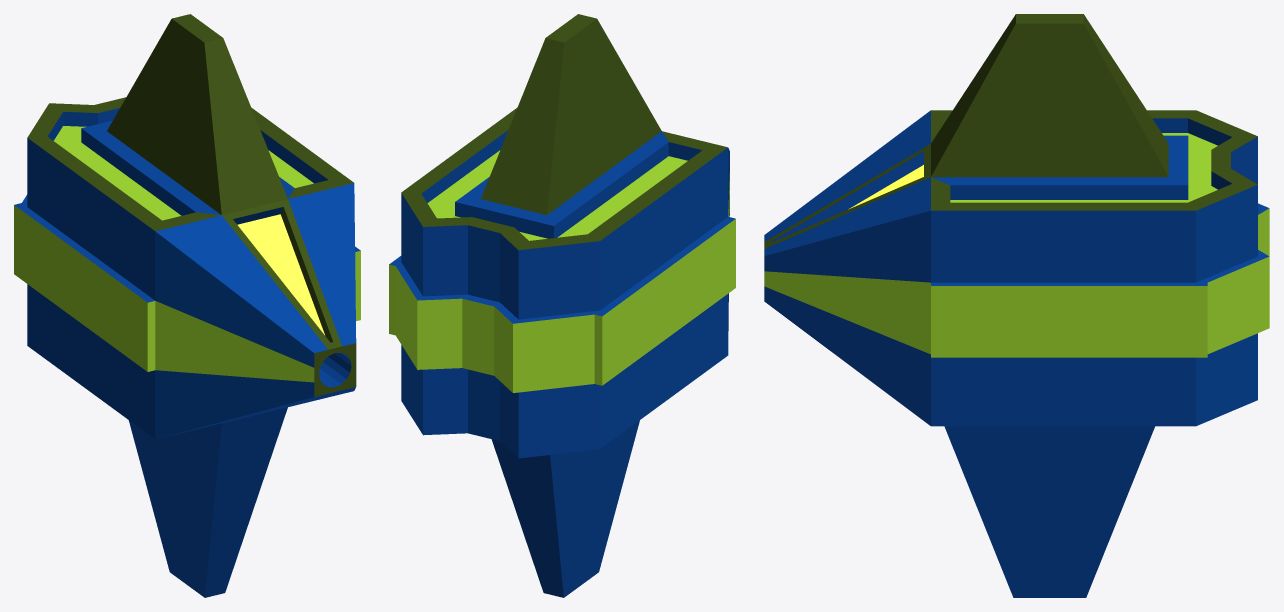
File: swarmer.glb
3 renders of one model, left to right at view 1: azimuth 30°, elevation 25°; view 2: azimuth 150°, elevation 25°; view 3: azimuth 270°, elevation 25°, orthographic. The views are drawn at different scales.
Parts seen in each view (by area): view 1: Cube; view 2: Cube; view 3: Cube.
Part boxes in pixels (x1,y1,x2,y2): Cube: (14,14,360,597); Cube: (389,14,735,597); Cube: (764,14,1269,597).
Size of the model in its own units: 0.8573 by 2.13 by 1.7.
